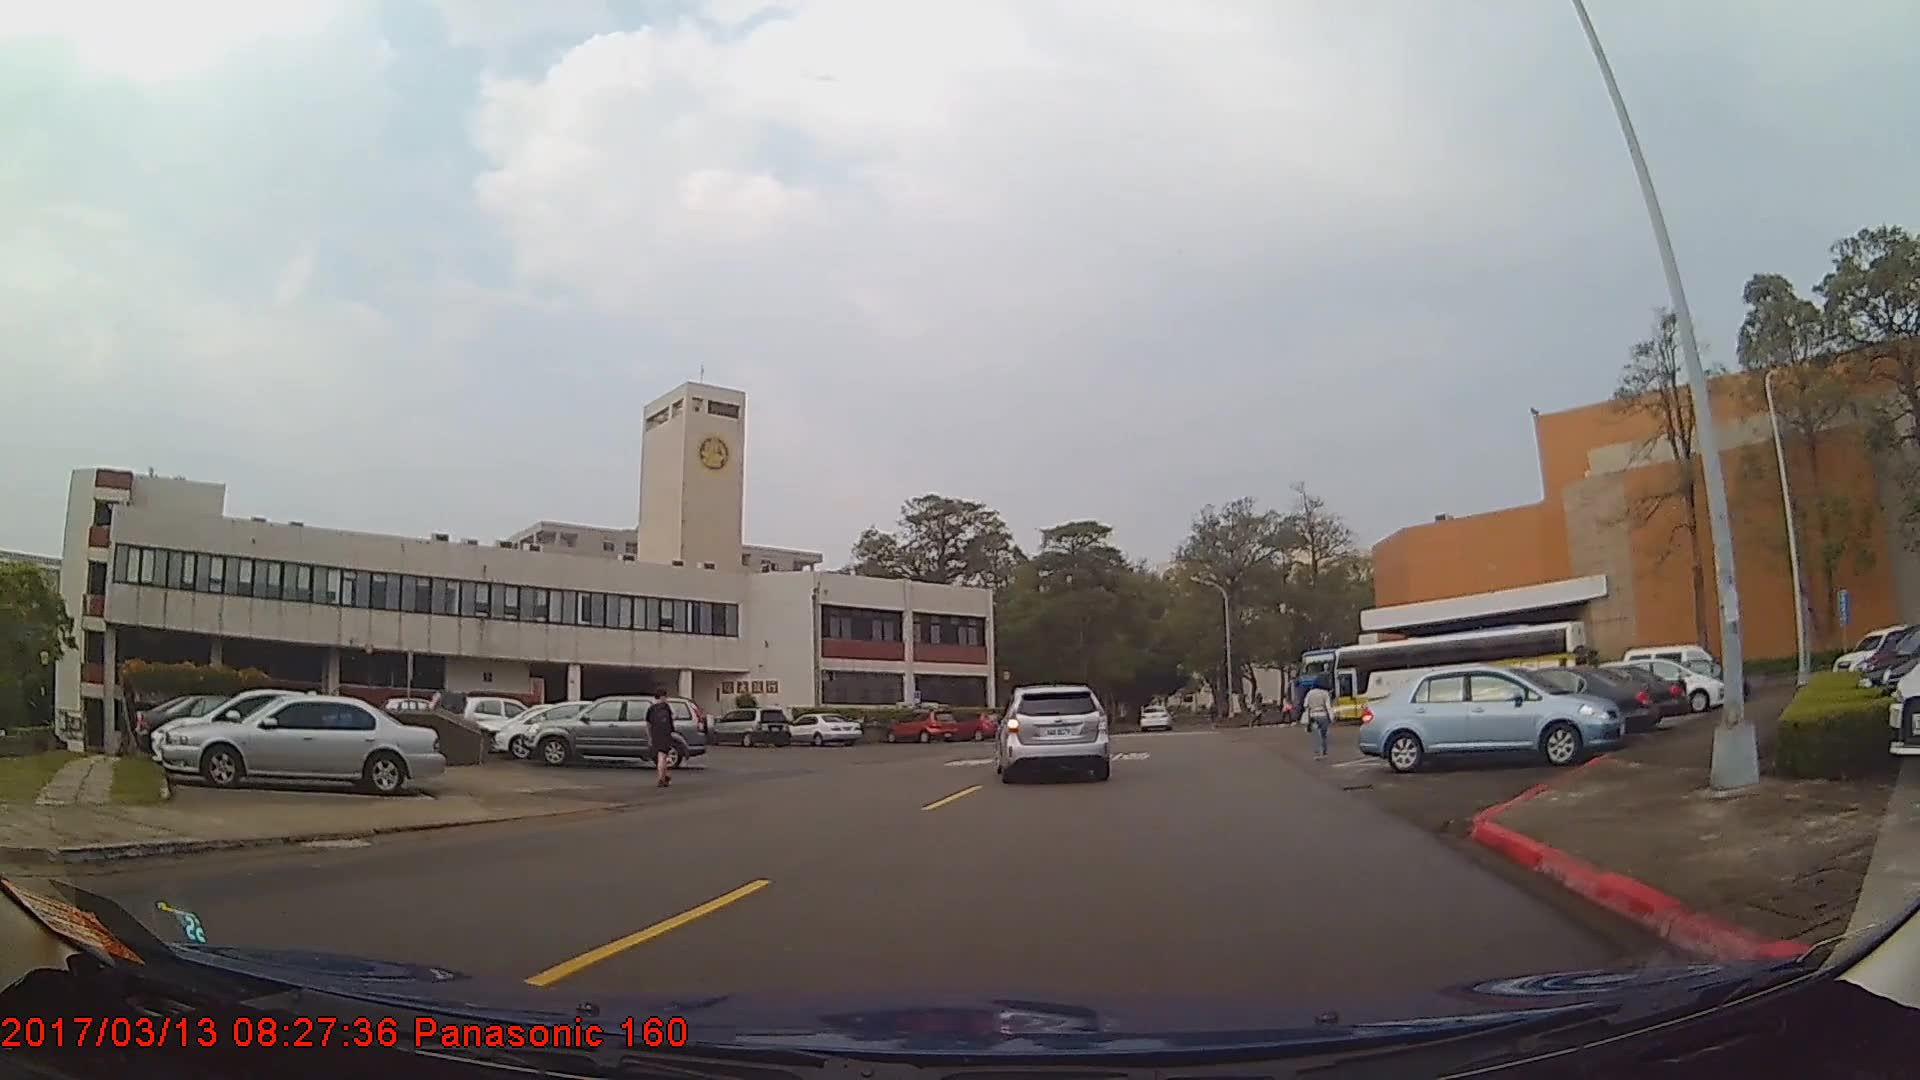pedestrian: (1299, 677, 1334, 766), (648, 691, 677, 791)
vehicle: (160, 691, 447, 793), (1357, 663, 1623, 770), (1332, 620, 1588, 728), (148, 689, 390, 782), (1429, 668, 1659, 742), (521, 693, 714, 768), (134, 695, 339, 762), (1507, 666, 1690, 730), (997, 681, 1109, 784), (494, 698, 645, 759), (459, 695, 545, 747), (706, 705, 792, 747), (783, 710, 863, 744), (886, 709, 958, 744), (1138, 708, 1172, 736)
